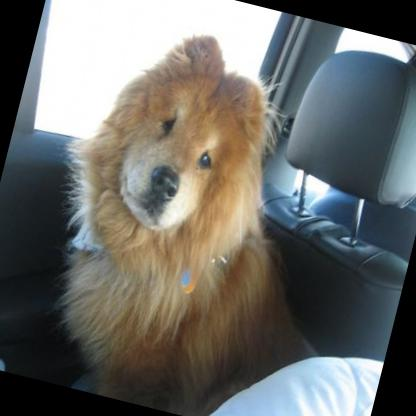chow: (20, 9, 388, 416)
